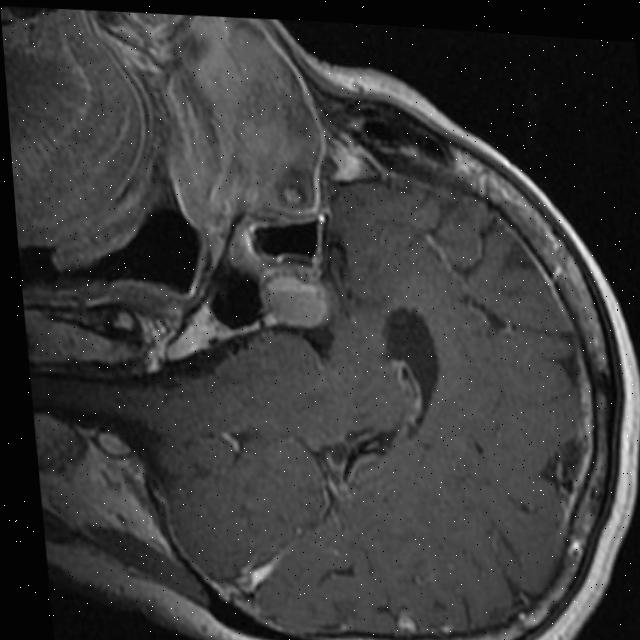Pituitary: (255, 261, 328, 331)
